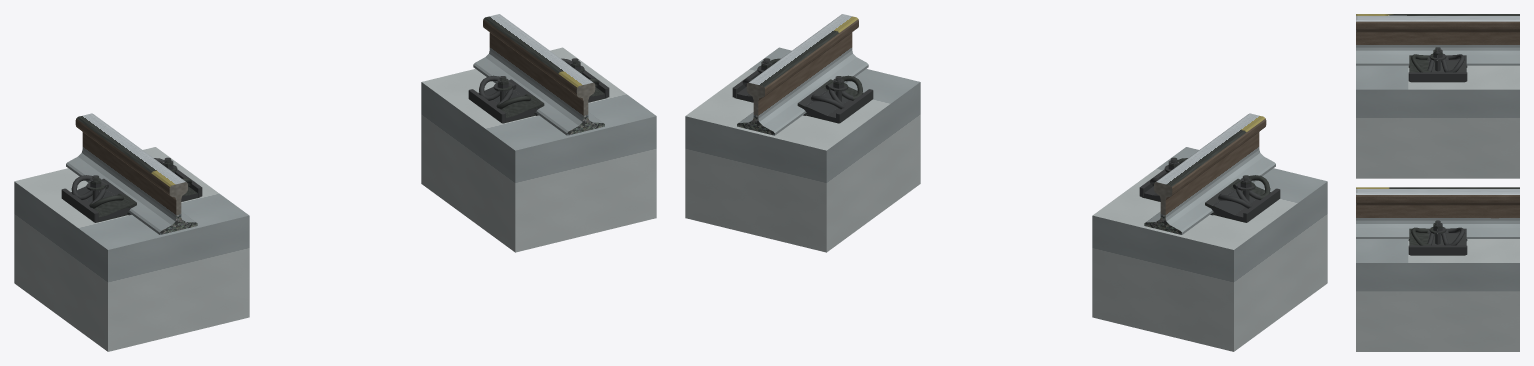
Rendered from direct_high.obj.
The picture shows the model from 3 angles, left to right: view 1: azimuth 30°, elevation 25°; view 2: azimuth 150°, elevation 25°; view 3: azimuth 270°, elevation 25°; orthographic projection. The views are drawn at different scales.
Visible parts, largest first — view 1: direct_bearer, rail_left, rail_right, fastener_left, fastener_right, rail_left_end, rail_right_end; view 2: direct_bearer, rail_left, rail_right, fastener_left, fastener_right, rail_left_end, rail_right_end; view 3: direct_bearer, rail_right, rail_left, fastener_left, fastener_right.
Part boxes in pixels (<box>): direct_bearer: <box>14,47,656,351</box>; rail_left: <box>66,113,195,234</box>; rail_right: <box>473,14,602,135</box>; fastener_left: <box>61,157,202,222</box>; fastener_right: <box>468,58,609,123</box>; rail_left_end: <box>160,182,197,234</box>; rail_right_end: <box>567,83,604,135</box>; direct_bearer: <box>685,47,1327,351</box>; rail_left: <box>1146,113,1275,234</box>; rail_right: <box>739,14,868,135</box>; fastener_left: <box>1139,157,1280,222</box>; fastener_right: <box>732,58,873,123</box>; rail_left_end: <box>1144,182,1181,234</box>; rail_right_end: <box>737,83,774,135</box>; direct_bearer: <box>1356,65,1519,351</box>; rail_right: <box>1356,187,1519,238</box>; rail_left: <box>1356,14,1519,65</box>; fastener_left: <box>1408,47,1467,82</box>; fastener_right: <box>1408,220,1467,255</box>.
Bounding box in the file's own units: 2.03 × 0.5324 × 0.6.
